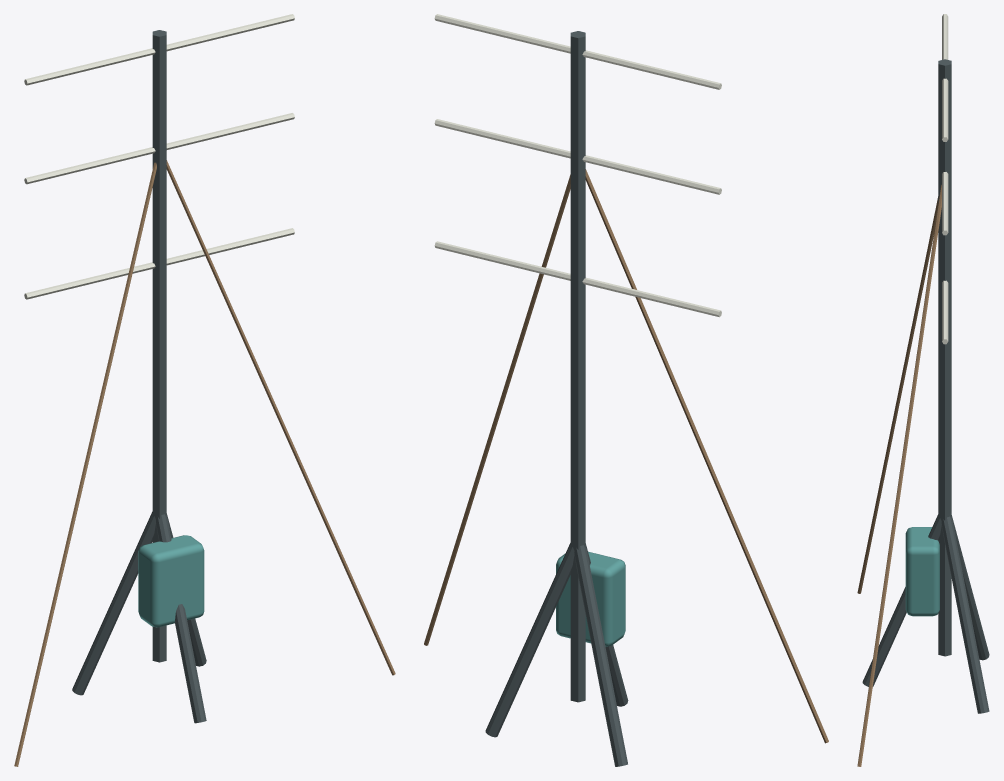
Rendered from castaway-island-escape-rescue-transmitter-mast-09a9dcf9__28060.glb.
The picture shows the model from 3 angles, left to right: view 1: azimuth 30°, elevation 25°; view 2: azimuth 150°, elevation 25°; view 3: azimuth 270°, elevation 25°; orthographic projection. The views are drawn at different scales.
Parts seen in each view (by area): view 1: rescue-transmitter-mast-iron, rescue-transmitter-mast-ivory, rescue-transmitter-mast-wood, rescue-transmitter-mast-teal; view 2: rescue-transmitter-mast-iron, rescue-transmitter-mast-ivory, rescue-transmitter-mast-wood, rescue-transmitter-mast-teal; view 3: rescue-transmitter-mast-iron, rescue-transmitter-mast-wood, rescue-transmitter-mast-teal, rescue-transmitter-mast-ivory.
Boxes of the visible parts, x1,y1,x2,y2 form: rescue-transmitter-mast-iron: (72, 30, 206, 723); rescue-transmitter-mast-ivory: (24, 14, 294, 299); rescue-transmitter-mast-wood: (14, 160, 395, 766); rescue-transmitter-mast-teal: (138, 535, 204, 627); rescue-transmitter-mast-iron: (485, 31, 628, 766); rescue-transmitter-mast-ivory: (434, 14, 721, 317); rescue-transmitter-mast-wood: (424, 169, 828, 743); rescue-transmitter-mast-teal: (556, 551, 625, 646); rescue-transmitter-mast-iron: (862, 59, 989, 713); rescue-transmitter-mast-wood: (857, 185, 941, 766); rescue-transmitter-mast-teal: (905, 527, 939, 616); rescue-transmitter-mast-ivory: (942, 14, 948, 344).
Bounding box in the file's own units: 2.42 × 4.01 × 0.77.
